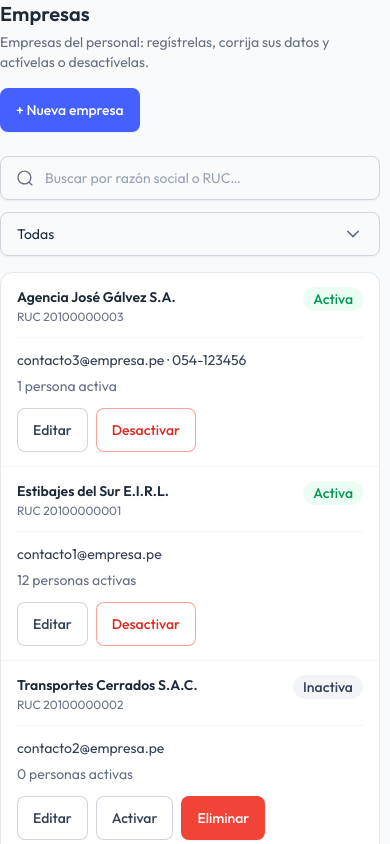
Scenario: vista Empresas › en el celular, una tarjeta por empresa: RUC, estado, contacto, personal activo y los botones
expect the text "12 personas activas" is shown: met, box [17, 571, 136, 589]
expect the text "Activa" next to "Estibajes del Sur E.I.R.L." is shown: met, box [313, 484, 353, 502]
Click the button "Desactivar" below "12 personas activas" at (146, 624), box [96, 602, 196, 646]
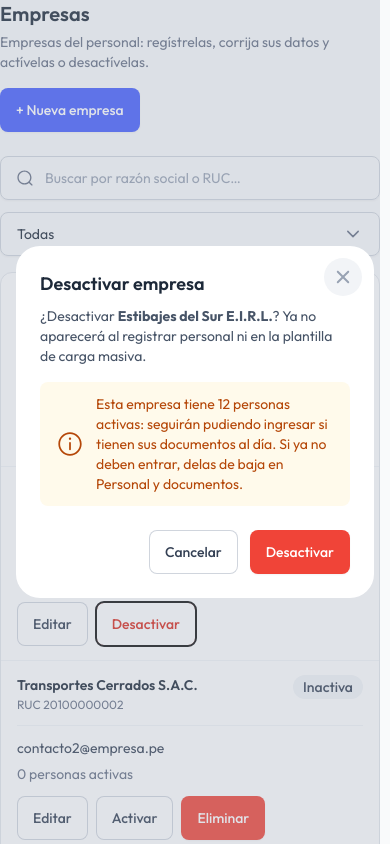
expect the text "tiene 12 personas activas" is shown: met, box [96, 394, 334, 494]
